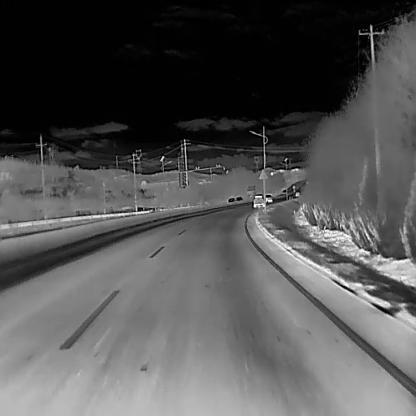car: (252, 194, 265, 207), (266, 194, 273, 202), (227, 196, 234, 203), (235, 194, 241, 202)
